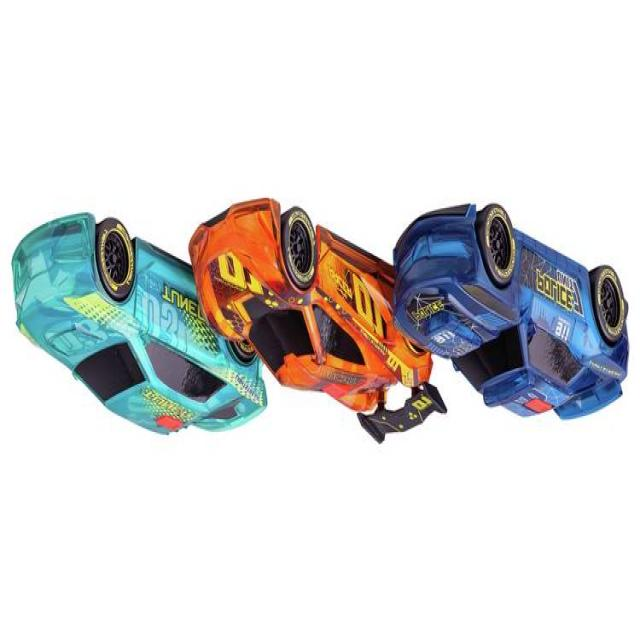Car: (189, 201, 446, 444), (12, 215, 266, 435), (393, 205, 628, 420)
